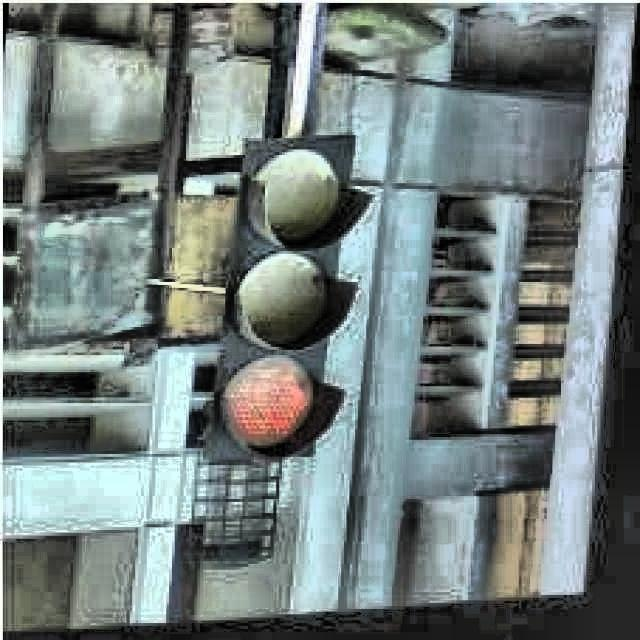red: (223, 132, 344, 472)
